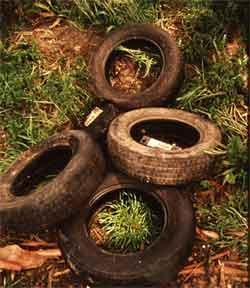tire: (58, 168, 195, 287), (1, 129, 106, 235), (107, 108, 221, 185), (91, 23, 186, 107)
